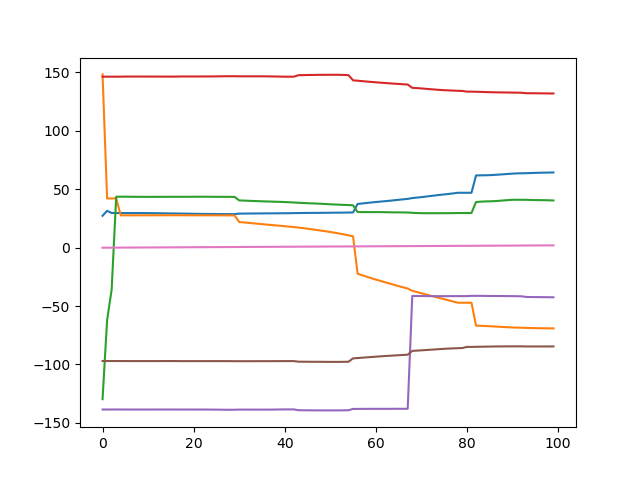Good_Bicep_Curl: (3, 1, 640, 480)
